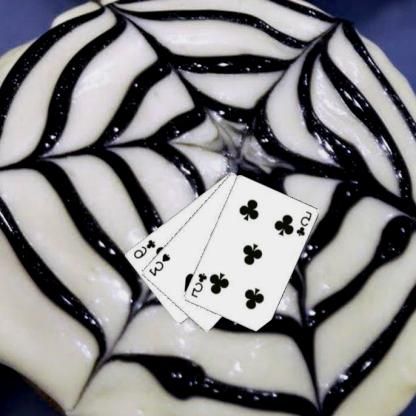3S: (148, 251, 173, 277)
5C: (294, 208, 314, 238), (190, 270, 210, 299)
9C: (132, 237, 158, 260)
